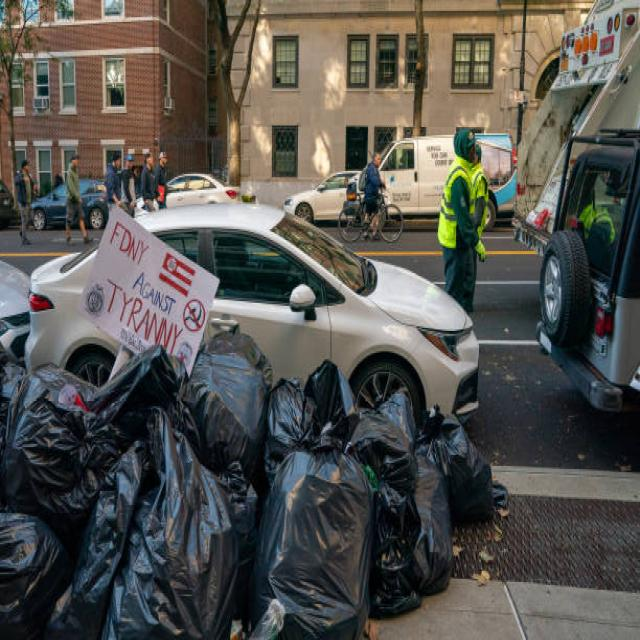trash: (26, 322, 479, 634)
